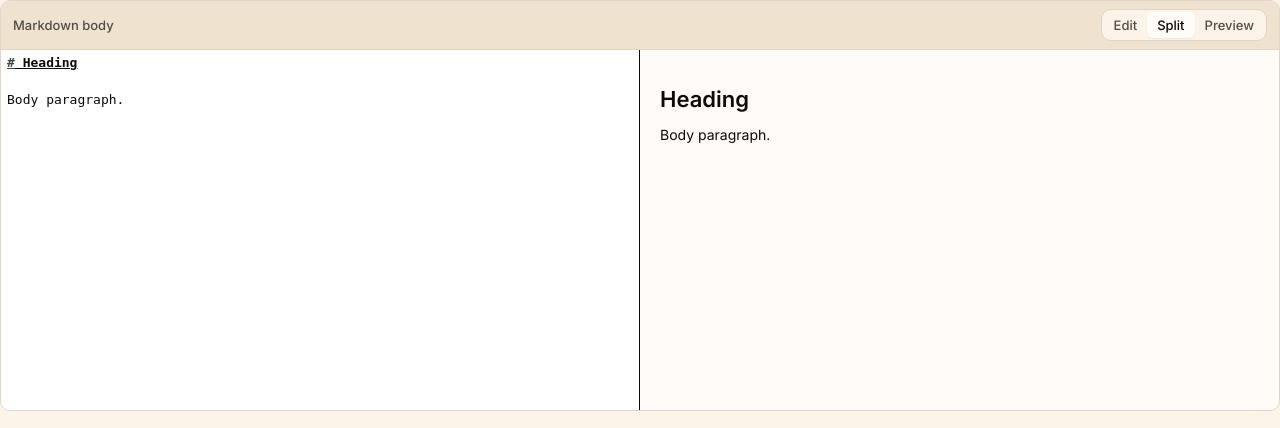
Test: MarkdownEditor › toggling to Preview hides the editor pane
Click the radio button labelled "Preview" at [1229, 25], box [1194, 12, 1264, 38]
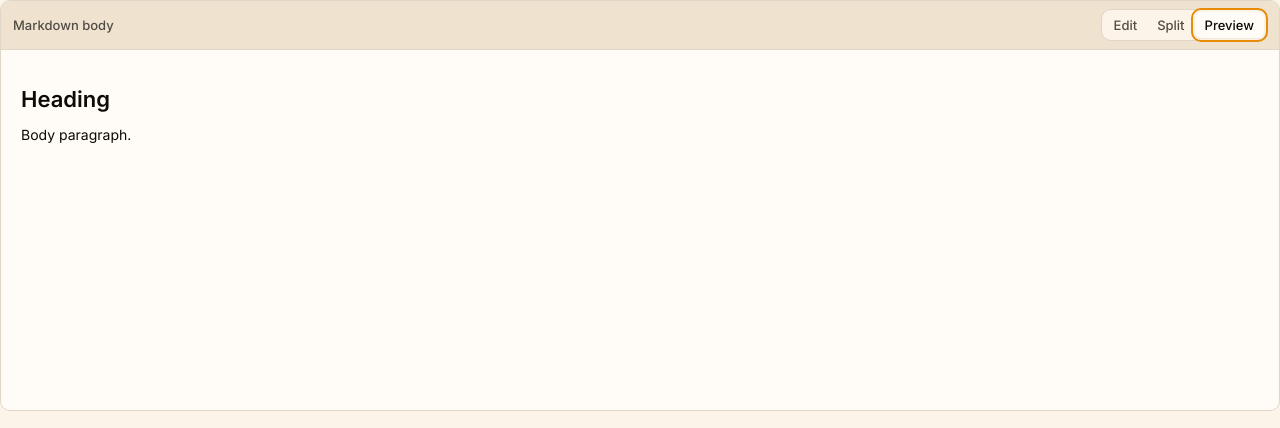
expect the heading "Heading" is shown: met, box [21, 86, 110, 112]
expect the element with test id "cm-editor" is gone: met
